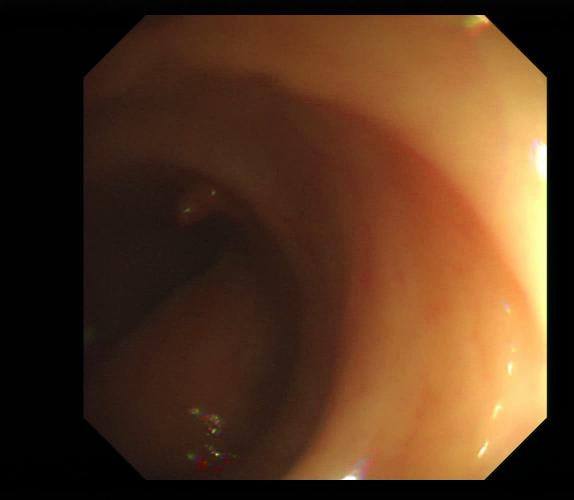polyp: (174, 174, 232, 226)
